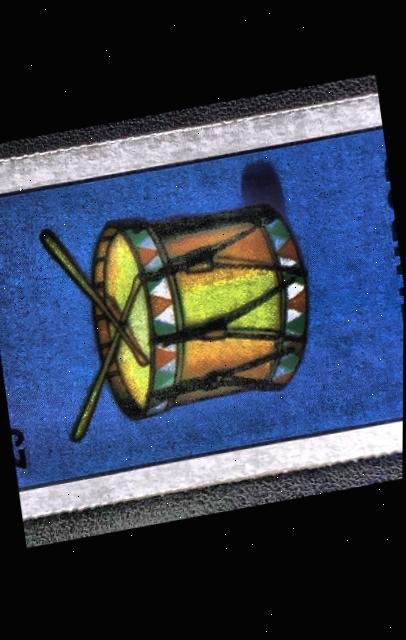El Tambor: (0, 113, 405, 499)
